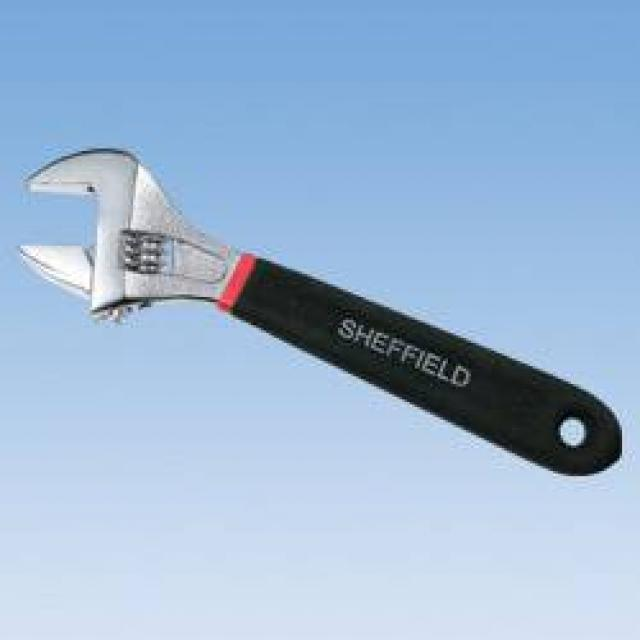pliers: (16, 137, 630, 479)
